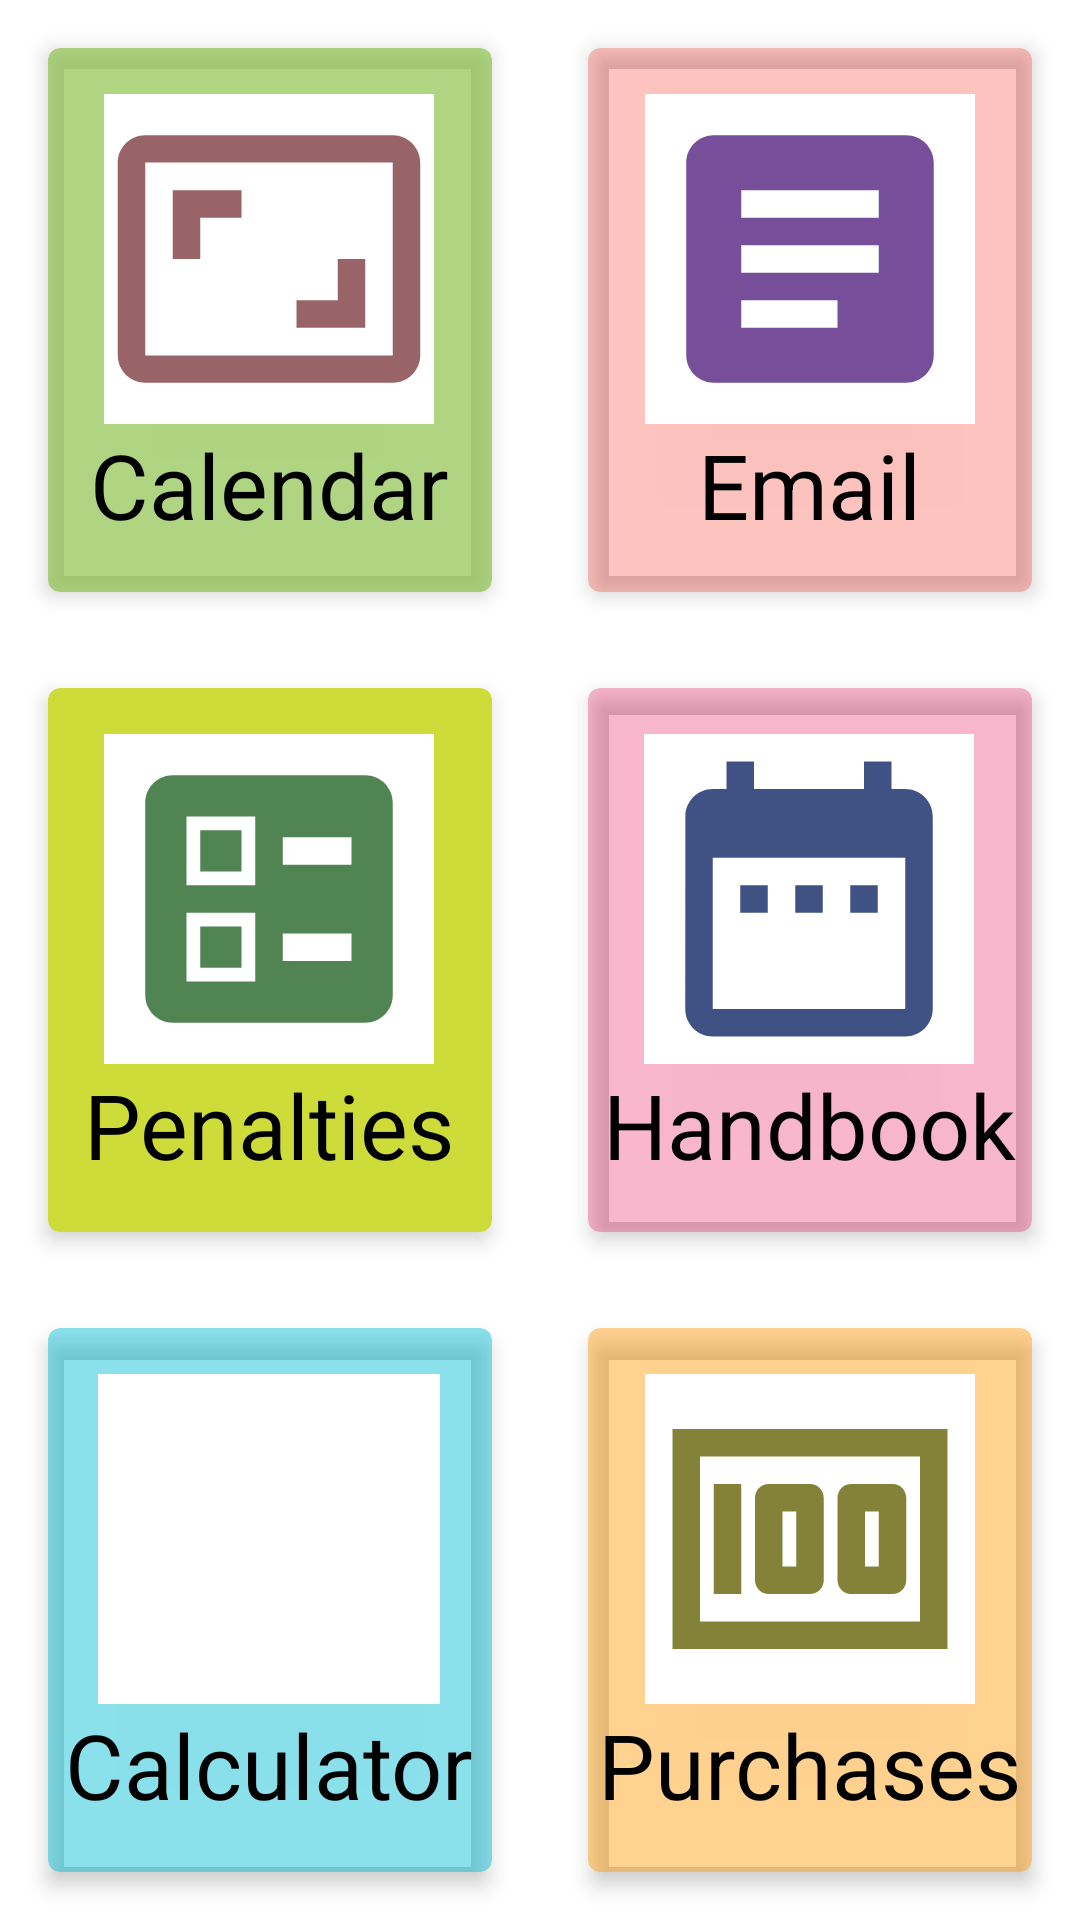

Icons on this 1080x1920 Android screen, each with the point to tap as (x=x, y=y):
article: (x=810, y=259)
aspect ratio: (x=269, y=259)
ballot: (x=269, y=899)
date range: (x=809, y=899)
money: (x=810, y=1539)
